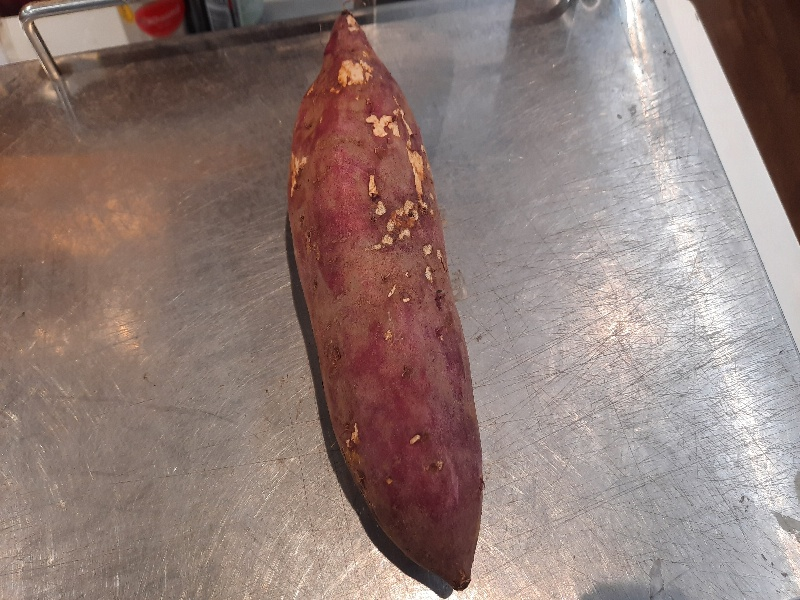vege: (281, 4, 495, 600)
